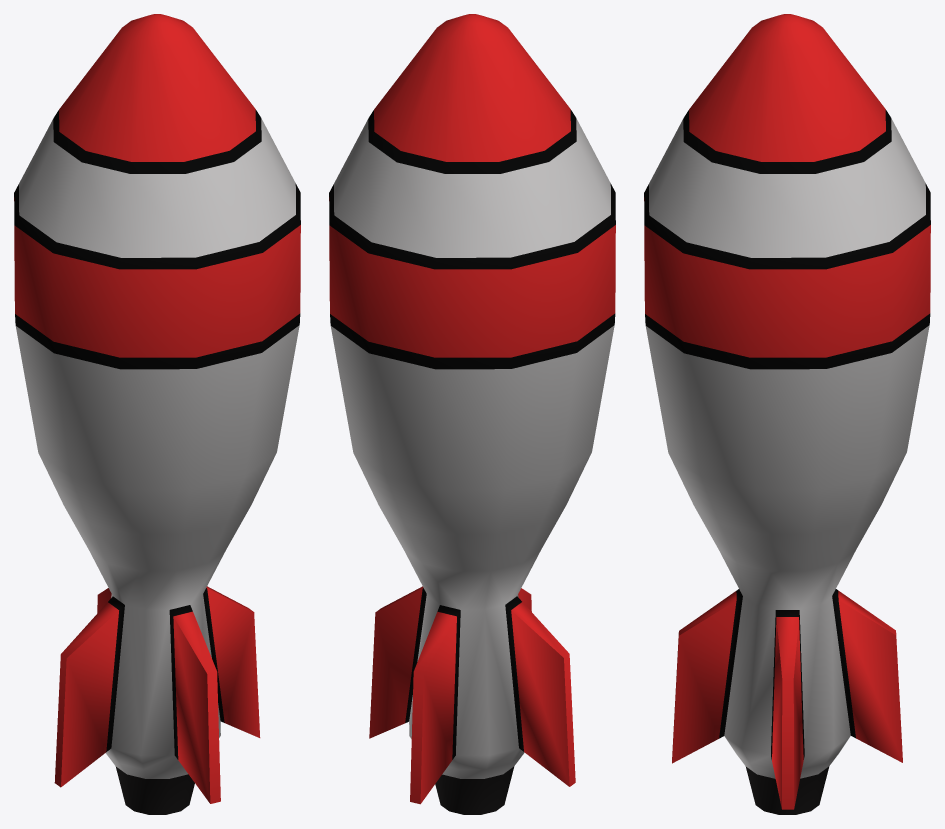
File: Rocket01_Red.fbx
3 views of the same model, side by side, from view 1: azimuth 30°, elevation 25°; view 2: azimuth 150°, elevation 25°; view 3: azimuth 270°, elevation 25° (orthographic).
Parts seen in each view (by area): view 1: Rocket01_Red; view 2: Rocket01_Red; view 3: Rocket01_Red.
Part boxes in pixels (bbox=[...]): Rocket01_Red: bbox=[14, 14, 300, 814]; Rocket01_Red: bbox=[329, 14, 615, 814]; Rocket01_Red: bbox=[644, 14, 930, 814].
Bounding box in the file's own units: 325 × 981 × 325.
Materials: 1 (1 with a texture image).
